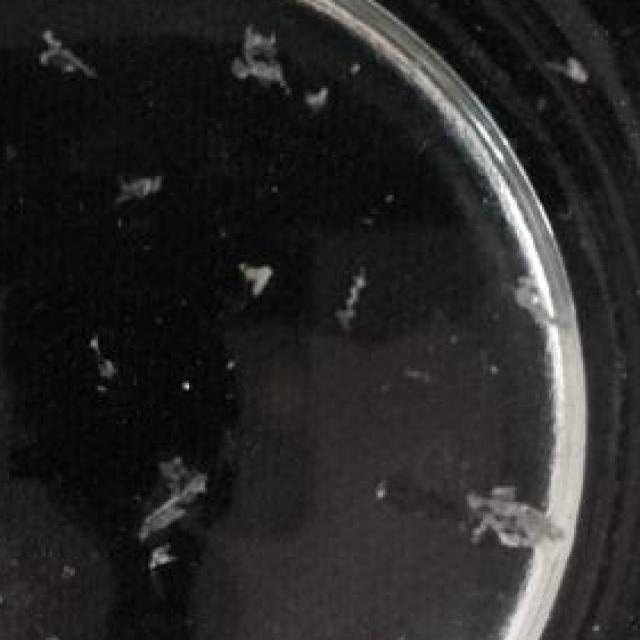Microplastic: (474, 471, 560, 581), (134, 435, 212, 545), (21, 19, 107, 93), (218, 14, 292, 95), (497, 262, 562, 342), (544, 31, 604, 112), (109, 150, 171, 207), (234, 240, 284, 302), (128, 538, 192, 576), (291, 60, 335, 114)
